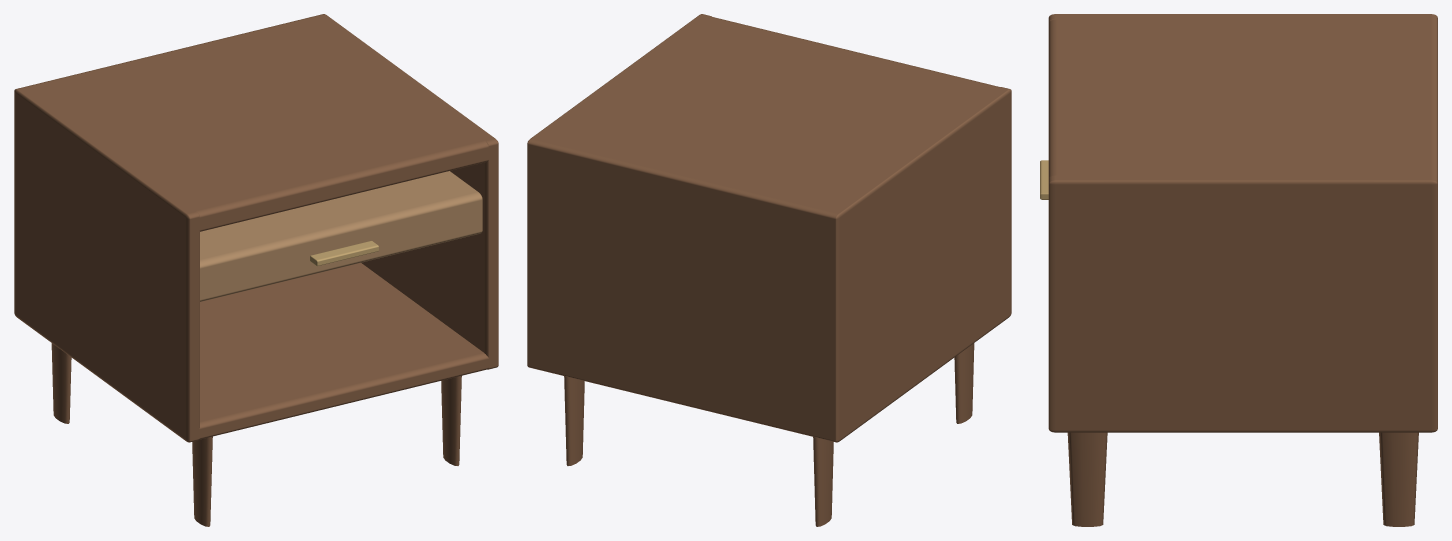
Rendered from cabinet-3-2.glb.
The picture shows the model from 3 angles, left to right: view 1: azimuth 30°, elevation 25°; view 2: azimuth 150°, elevation 25°; view 3: azimuth 270°, elevation 25°; orthographic projection. The views are drawn at different scales.
Visible parts, largest first — view 1: part, upholstery (×2); view 2: part; view 3: part.
Part boxes in pixels (box(x1,y1,x2,y2)): part: box(14, 14, 498, 526); upholstery (×2): box(200, 171, 482, 301); part: box(527, 14, 1011, 526); part: box(1048, 14, 1437, 526).
Bounding box in the file's own units: 1 × 1 × 1.
